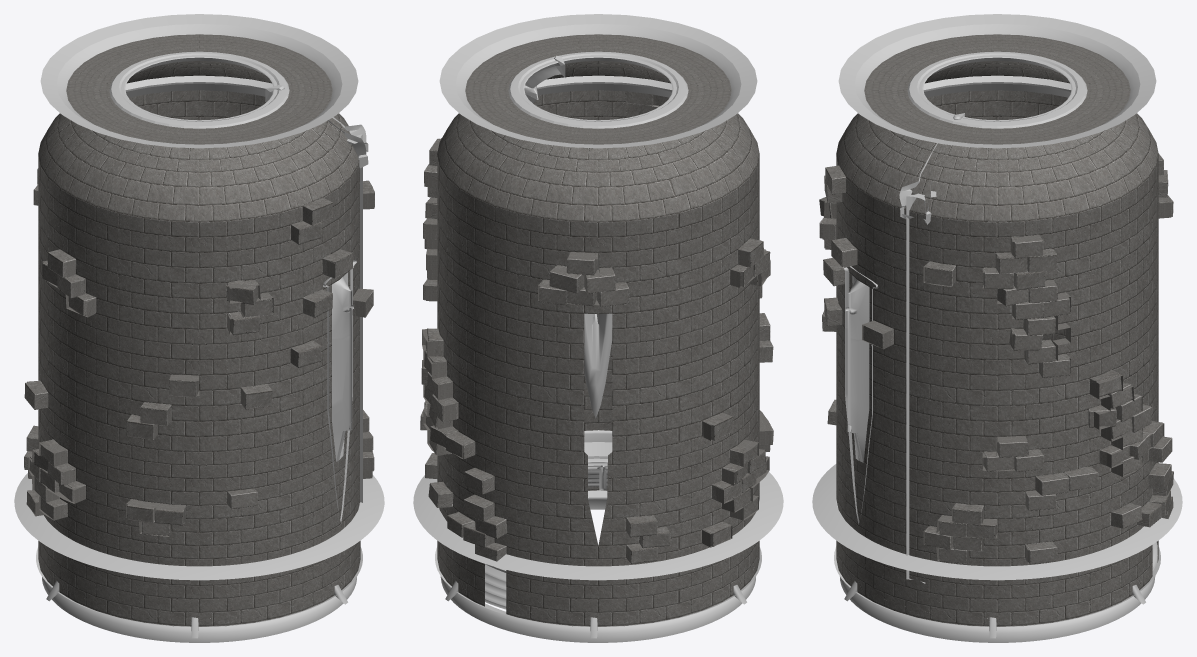
The model's file is CrucibleTransition_E.fbx.
3 views of the same model, side by side, from view 1: azimuth 30°, elevation 25°; view 2: azimuth 150°, elevation 25°; view 3: azimuth 270°, elevation 25° (orthographic).
Parts seen in each view (by area): view 1: CrucibleTransition_D_Structure, Crucible_RingsupportBase, CrucibleTransition_WindowsA_18, PlainUpperRing_B, PlainUpperRing_B1, CrucibleTransitionPillarA_12, UpperPillarStrut_1; view 2: CrucibleTransition_D_Structure, Crucible_RingsupportBase, CrucibleTransition_WindowsA_18, PlainUpperRing_B, PlainUpperRing_B1, UpperPillarStrut_1; view 3: CrucibleTransition_D_Structure, Crucible_RingsupportBase, CrucibleTransition_WindowsA_18, PlainUpperRing_B, CrucibleTransitionPillarA_12, PlainUpperRing_B1, UpperPillarStrut_1.
Boxes of the visible parts, x1=… form: CrucibleTransition_D_Structure: x1=24, y1=14, x2=374, y2=626; Crucible_RingsupportBase: x1=14, y1=473, x2=384, y2=642; CrucibleTransition_WindowsA_18: x1=323, y1=260, x2=356, y2=522; PlainUpperRing_B: x1=125, y1=75, x2=272, y2=97; PlainUpperRing_B1: x1=119, y1=53, x2=279, y2=121; CrucibleTransitionPillarA_12: x1=356, y1=134, x2=362, y2=502; UpperPillarStrut_1: x1=265, y1=85, x2=368, y2=168; CrucibleTransition_D_Structure: x1=420, y1=14, x2=773, y2=626; Crucible_RingsupportBase: x1=413, y1=430, x2=783, y2=642; CrucibleTransition_WindowsA_18: x1=584, y1=259, x2=612, y2=418; PlainUpperRing_B: x1=537, y1=75, x2=672, y2=97; PlainUpperRing_B1: x1=518, y1=53, x2=678, y2=121; UpperPillarStrut_1: x1=524, y1=55, x2=565, y2=103; CrucibleTransition_D_Structure: x1=819, y1=14, x2=1173, y2=626; Crucible_RingsupportBase: x1=812, y1=464, x2=1182, y2=642; CrucibleTransition_WindowsA_18: x1=843, y1=266, x2=878, y2=524; PlainUpperRing_B: x1=923, y1=75, x2=1071, y2=97; CrucibleTransitionPillarA_12: x1=906, y1=193, x2=925, y2=583; PlainUpperRing_B1: x1=917, y1=53, x2=1077, y2=121; UpperPillarStrut_1: x1=899, y1=113, x2=964, y2=224.
Bounding box in the file's own units: 3699 × 5458 × 3699.
